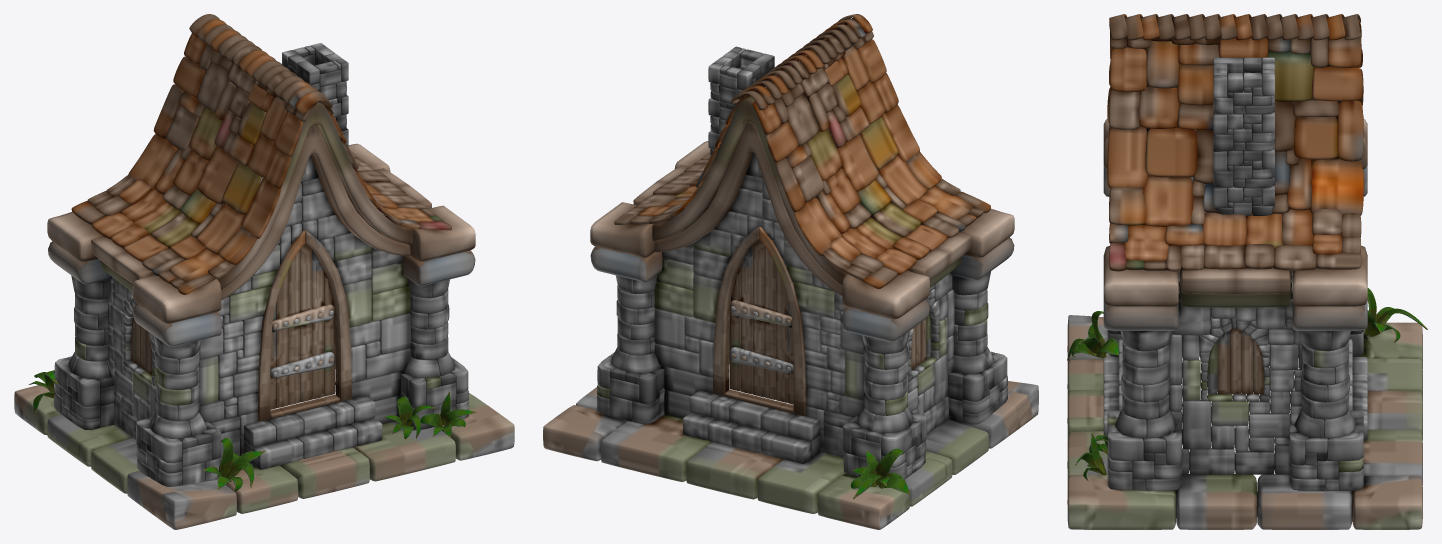
File: house.glb
3 renders of one model, left to right at view 1: azimuth 30°, elevation 25°; view 2: azimuth 150°, elevation 25°; view 3: azimuth 270°, elevation 25°, orthographic. The views are drawn at different scales.
Parts seen in each view (by area): view 1: Plane.001_0, Plane.010_0, Cube.006_0, Plane.008_0, Plane.009_0, TexturesCom_Leaves0203_1_masked_S.003_0; view 2: Plane.001_0, Plane.010_0, Cube.006_0, Plane.008_0, Plane.009_0, TexturesCom_Leaves0203_1_masked_S.003_0; view 3: Plane.001_0, Plane.008_0, Cube.006_0, Plane.010_0, Plane.009_0, TexturesCom_Leaves0203_1_masked_S.003_0.
Part boxes in pixels (x1=…): Plane.001_0: x1=47, y1=14, x2=475, y2=346; Plane.010_0: x1=107, y1=107, x2=411, y2=469; Cube.006_0: x1=54, y1=43, x2=468, y2=486; Plane.008_0: x1=14, y1=383, x2=514, y2=529; Plane.009_0: x1=131, y1=203, x2=351, y2=421; TexturesCom_Leaves0203_1_masked_S.003_0: x1=29, y1=370, x2=476, y2=491; Plane.001_0: x1=590, y1=14, x2=1014, y2=342; Plane.010_0: x1=650, y1=106, x2=958, y2=463; Cube.006_0: x1=597, y1=46, x2=1007, y2=479; Plane.008_0: x1=543, y1=381, x2=1038, y2=529; Plane.009_0: x1=713, y1=197, x2=931, y2=416; TexturesCom_Leaves0203_1_masked_S.003_0: x1=850, y1=448, x2=910, y2=499; Plane.001_0: x1=1103, y1=14, x2=1367, y2=330; Plane.008_0: x1=1067, y1=315, x2=1422, y2=529; Cube.006_0: x1=1107, y1=57, x2=1363, y2=490; Plane.010_0: x1=1103, y1=84, x2=1367, y2=474; Plane.009_0: x1=1207, y1=325, x2=1263, y2=394; TexturesCom_Leaves0203_1_masked_S.003_0: x1=1067, y1=288, x2=1427, y2=480.
Bounding box in the file's own units: 4.21 × 4.44 × 3.45.
6 materials, 6 textured.
